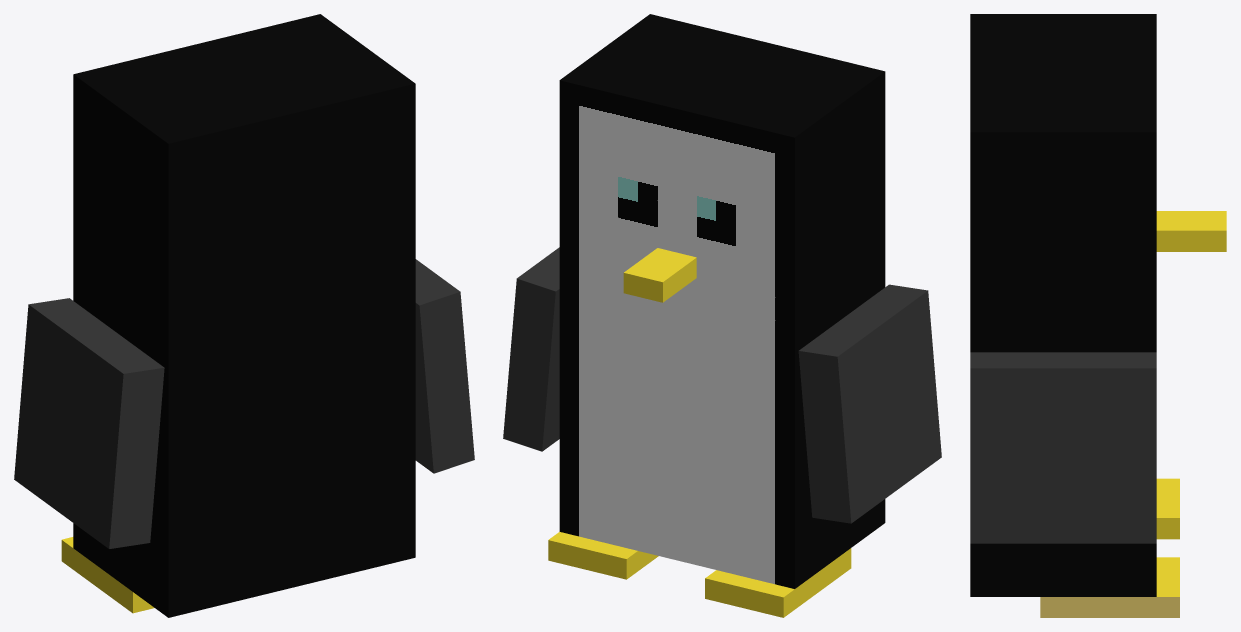
File: peng.gltf
3 renders of one model, left to right at view 1: azimuth 30°, elevation 25°; view 2: azimuth 150°, elevation 25°; view 3: azimuth 270°, elevation 25°, orthographic. The views are drawn at different scales.
Visible parts, largest first — view 1: cube (×4), left_foot; view 2: cube (×4), left_foot, right_foot, beak; view 3: cube (×3), right_foot, beak, left_foot.
Boxes of the visible parts, x1,y1,x2,y2 form: cube (×4): (14,14,474,617); left_foot: (61,537,154,613); cube (×4): (503,14,941,588); left_foot: (705,548,851,617); right_foot: (548,532,658,579); beak: (623,248,696,302); cube (×3): (970,14,1156,596); right_foot: (1040,557,1179,617); beak: (1156,211,1226,251); left_foot: (1156,478,1179,539).
Size of the model in its own units: 0.2775 by 0.3594 by 0.1719.
Materials: 1 (1 with a texture image).
